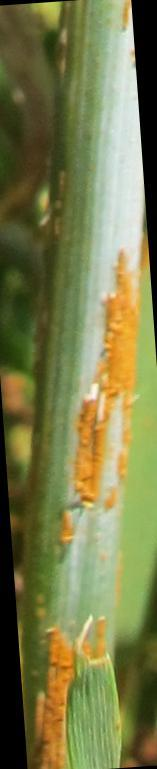Wheat: (41, 235, 141, 550), (28, 617, 98, 768)
